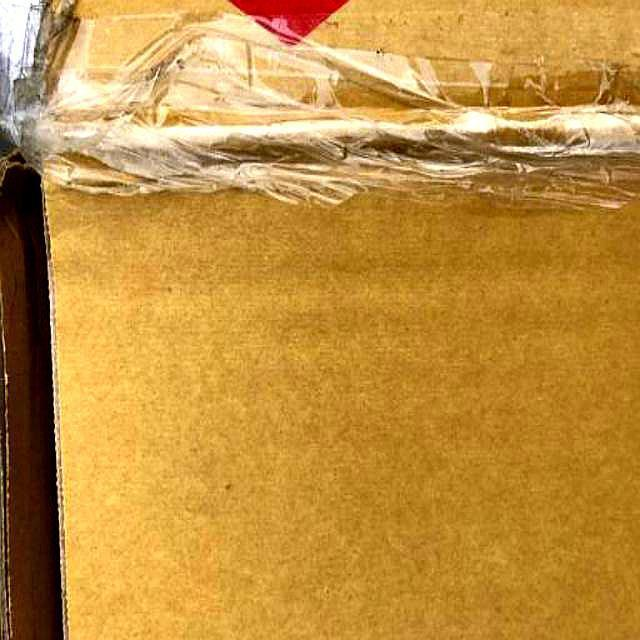Biodegradable: (5, 1, 640, 640)
